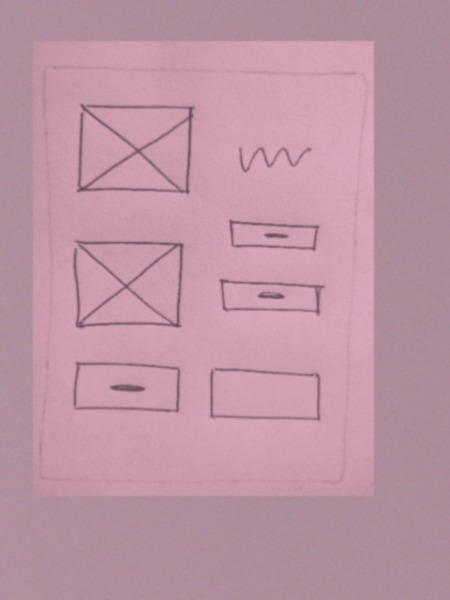button: (64, 358, 190, 422), (218, 275, 333, 323), (225, 213, 324, 259)
image: (69, 98, 199, 205), (64, 235, 187, 335)
text: (231, 137, 319, 187)
text_input: (206, 360, 327, 430)
